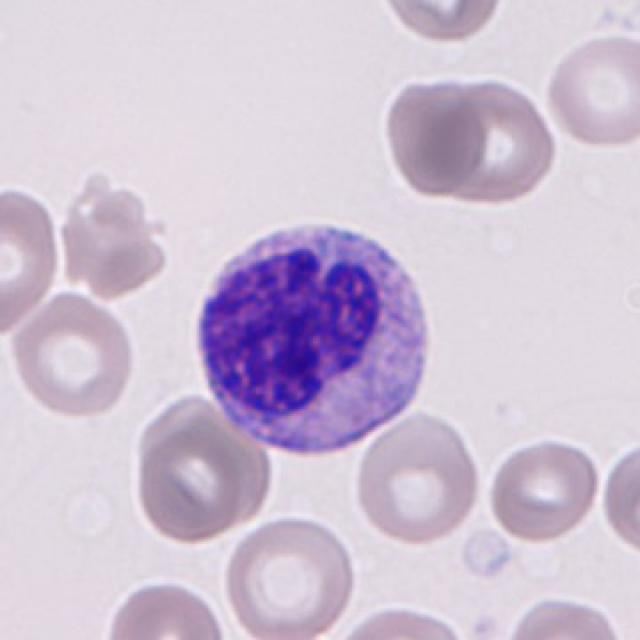Lymphocyte: (183, 206, 445, 468)
RBC: (322, 0, 622, 89), (351, 406, 486, 550), (4, 288, 142, 423), (220, 515, 359, 640), (52, 160, 174, 302), (438, 71, 559, 210), (377, 71, 487, 203), (133, 425, 249, 546), (484, 434, 603, 546), (538, 30, 640, 152), (2, 180, 62, 340), (100, 574, 228, 640), (373, 0, 512, 46), (499, 594, 633, 640), (327, 601, 477, 640), (599, 439, 640, 560)
